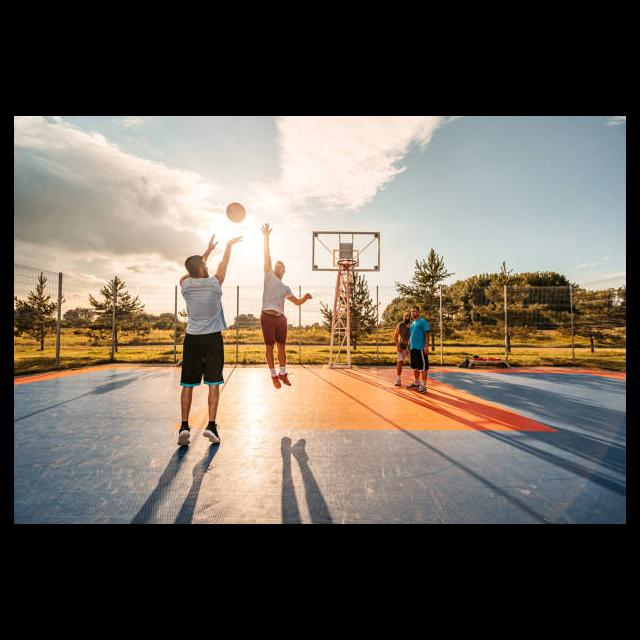basketball: (226, 202, 247, 223)
hoop: (337, 260, 357, 280)
